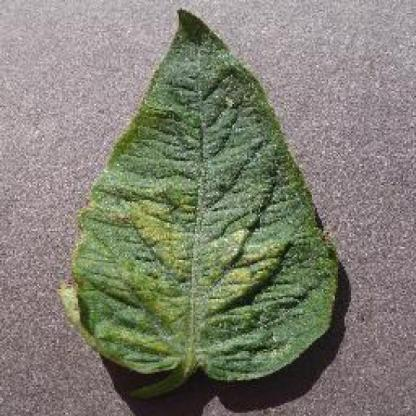Strawberry_Blossom_Blight: (146, 214, 196, 265), (209, 227, 270, 267), (169, 132, 223, 170), (254, 280, 313, 313), (172, 41, 224, 78)
